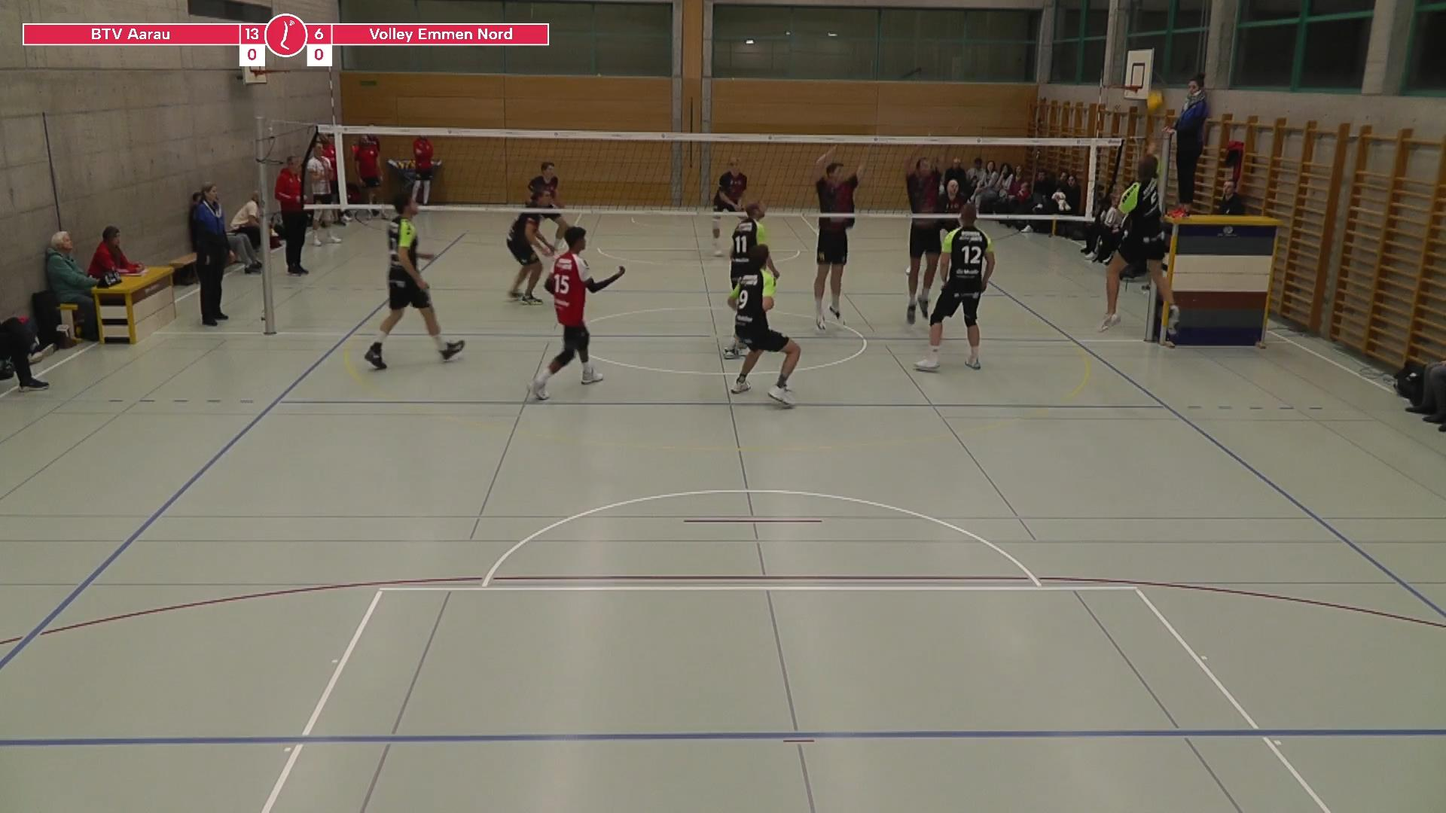Attack: (1086, 105, 1185, 332)
Player: (365, 192, 464, 369), (529, 227, 624, 400), (915, 202, 995, 371), (728, 244, 801, 406), (814, 149, 864, 331), (506, 213, 552, 304), (906, 217, 942, 324), (712, 158, 747, 255), (731, 201, 766, 289), (529, 161, 563, 209)
ball: (1140, 85, 1168, 116)
